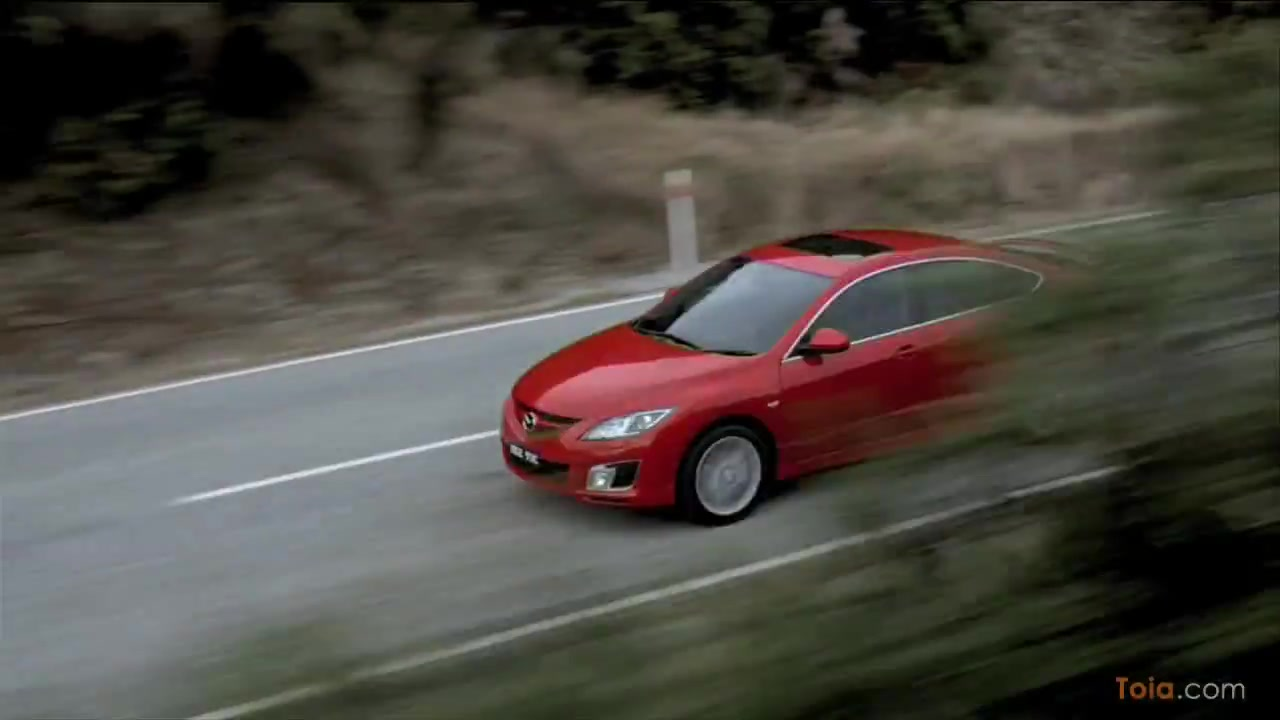car: (500, 228, 1151, 525)
